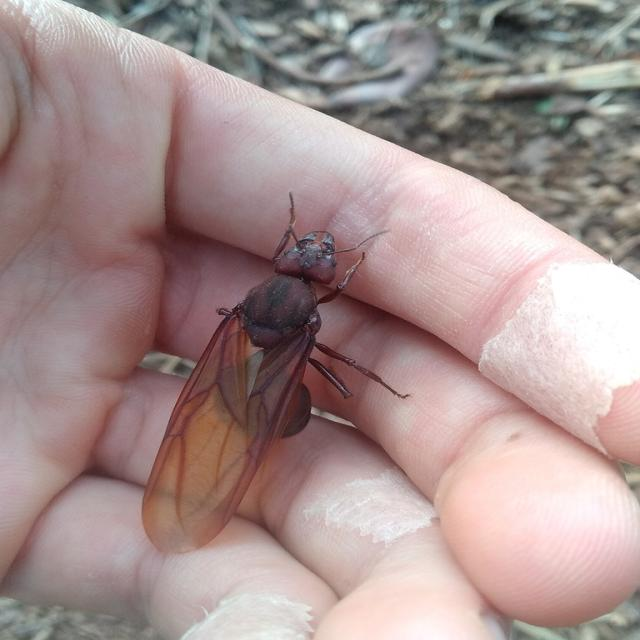Alive-Female-Alate: (140, 190, 414, 555)
